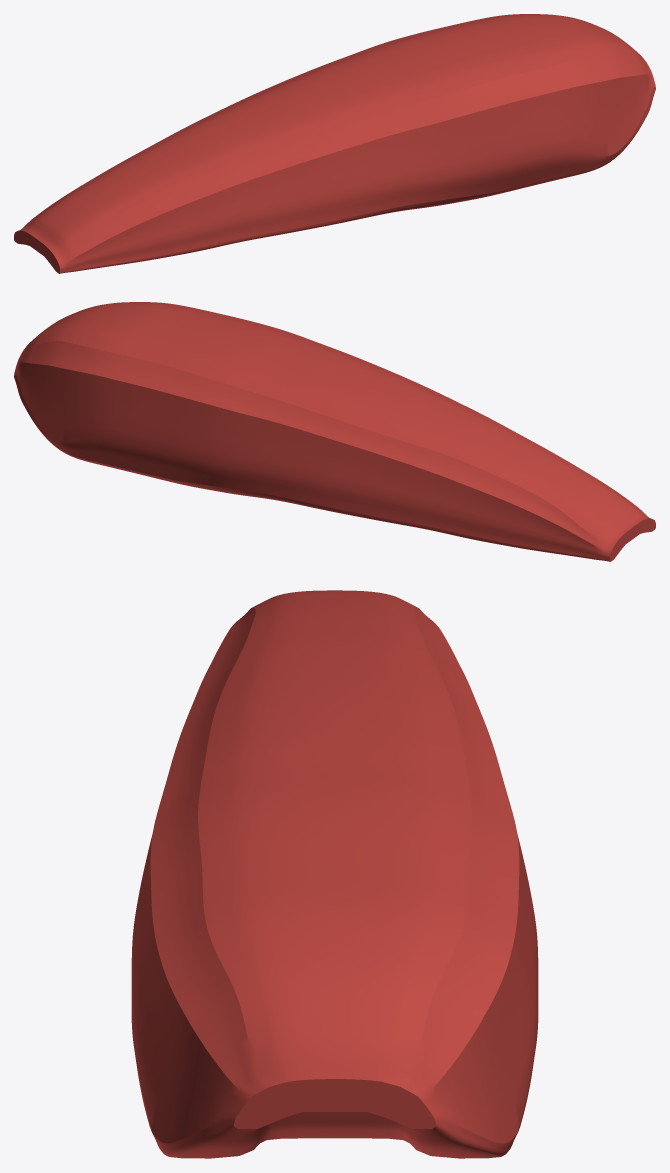
File: bobber_1.glb
The picture shows the model from 3 angles, top to bottom: view 1: azimuth 30°, elevation 25°; view 2: azimuth 150°, elevation 25°; view 3: azimuth 270°, elevation 25°; orthographic projection. The views are drawn at different scales.
Parts seen in each view (by area): view 1: bobber_1; view 2: bobber_1; view 3: bobber_1.
Boxes of the visible parts, <box> form: bobber_1: <box>14,14,655,273</box>; bobber_1: <box>14,302,655,561</box>; bobber_1: <box>131,590,538,1158</box>.
Bounding box in the file's own units: 1.06 × 0.1997 × 0.316.
